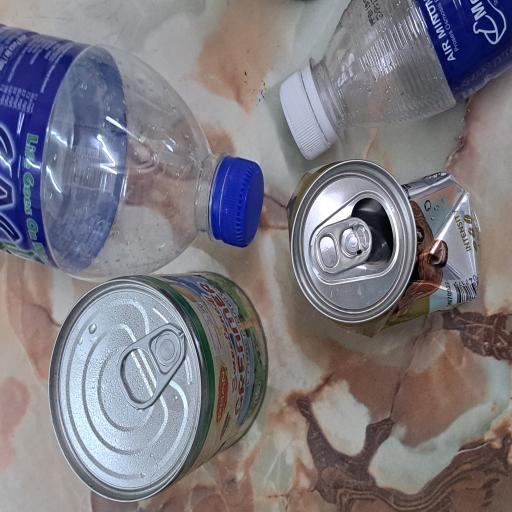can: (7, 64, 182, 359), (130, 379, 263, 512)
plastic bottle: (174, 0, 365, 300), (285, 419, 384, 512)
plastic bottle cap: (262, 369, 330, 446), (197, 282, 269, 352)
pop tab: (77, 157, 141, 248), (178, 420, 222, 498)
